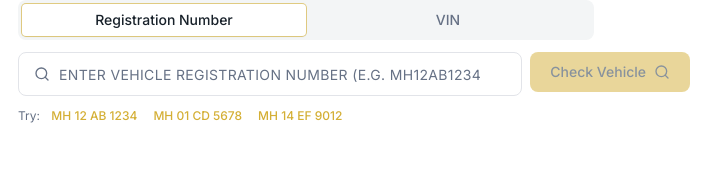
Test: SearchForm › shows a validation error for clearly invalid input
Type "NOPE123" into the field labelled "Enter vehicle registration number (e.g. MH12AB1234)" at (270, 74), box 18,52 -> 522,96
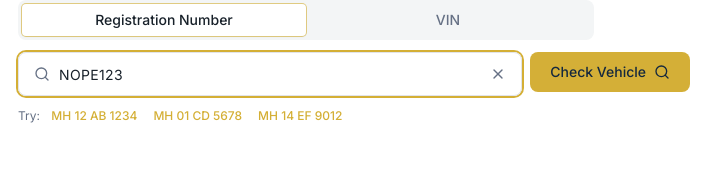
Click the button "Check Vehicle" at (610, 72), box 530,52 -> 690,92
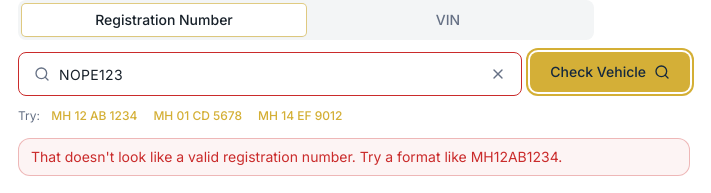
Now the message shows "MH12AB1234", box 31,148 -> 562,165
